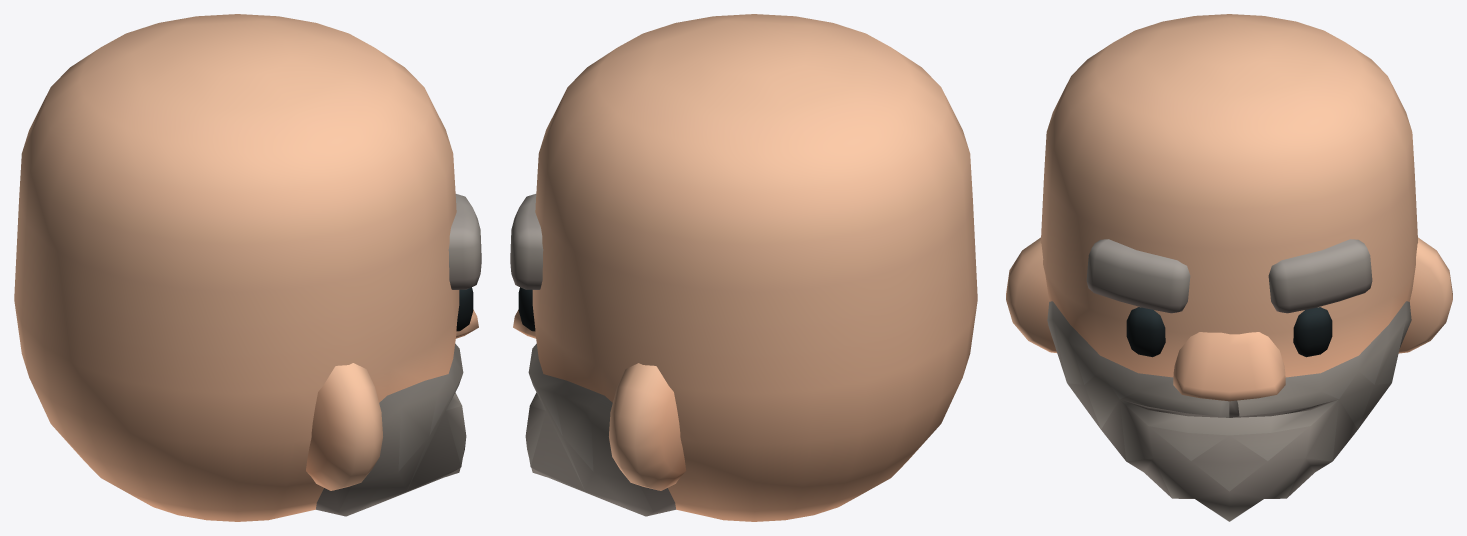
The model's file is head_03.glb.
The picture shows the model from 3 angles, left to right: view 1: azimuth 30°, elevation 25°; view 2: azimuth 150°, elevation 25°; view 3: azimuth 270°, elevation 25°; orthographic projection. The views are drawn at different scales.
Visible parts, largest first — view 1: Barbarian_Head; view 2: Barbarian_Head; view 3: Barbarian_Head.
Part boxes in pixels (x1,y1,x2,y2): Barbarian_Head: (14, 14, 481, 521); Barbarian_Head: (510, 14, 977, 521); Barbarian_Head: (1006, 14, 1452, 521).
Bounding box in the file's own units: 0.9862 × 1.05 × 1.09.
1 material, 1 textured.
